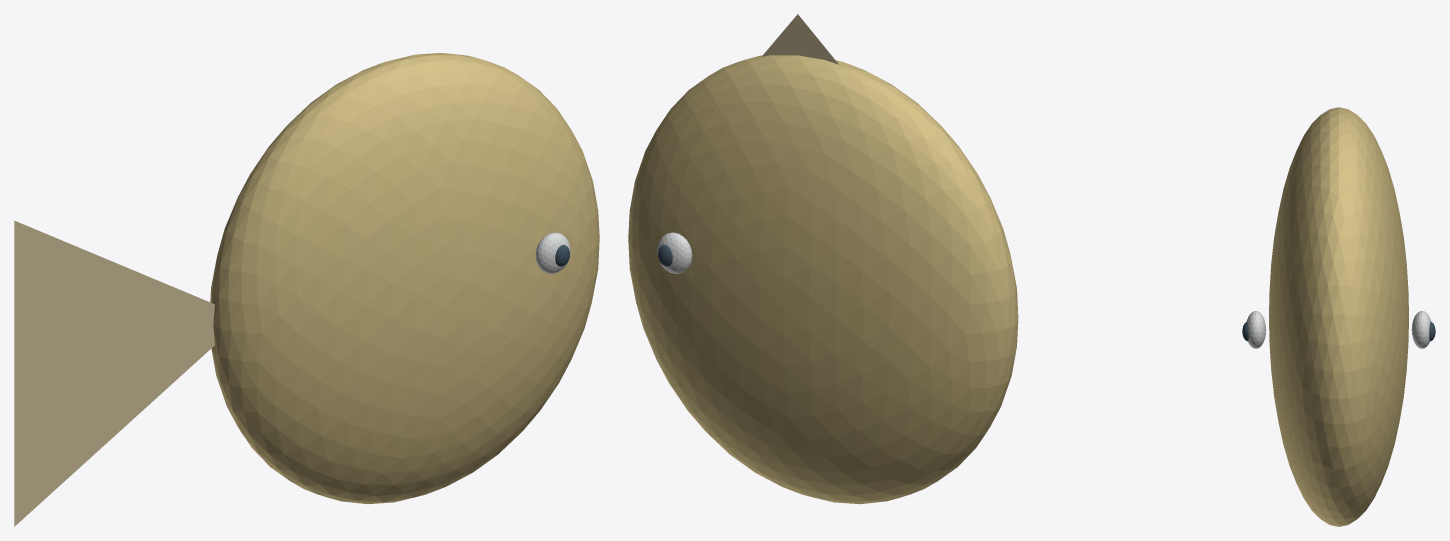
The picture shows the model from 3 angles, left to right: view 1: azimuth 30°, elevation 25°; view 2: azimuth 150°, elevation 25°; view 3: azimuth 270°, elevation 25°; orthographic projection. The views are drawn at different scales.
Parts seen in each view (by area): view 1: disc_00, disc_01, disc_05; view 2: disc_00, disc_02, disc_03; view 3: disc_00, disc_03, disc_05.
Part boxes in pixels (x1=…): disc_00: x1=210, y1=53, x2=599, y2=504; disc_01: x1=14, y1=220, x2=214, y2=526; disc_05: x1=535, y1=232, x2=570, y2=273; disc_00: x1=628, y1=55, x2=1018, y2=504; disc_02: x1=762, y1=14, x2=838, y2=64; disc_03: x1=657, y1=232, x2=692, y2=273; disc_00: x1=1269, y1=107, x2=1408, y2=526; disc_03: x1=1411, y1=311, x2=1431, y2=348; disc_05: x1=1246, y1=311, x2=1266, y2=348.
Size of the model in its own units: 2.28 by 1.79 by 0.744.
